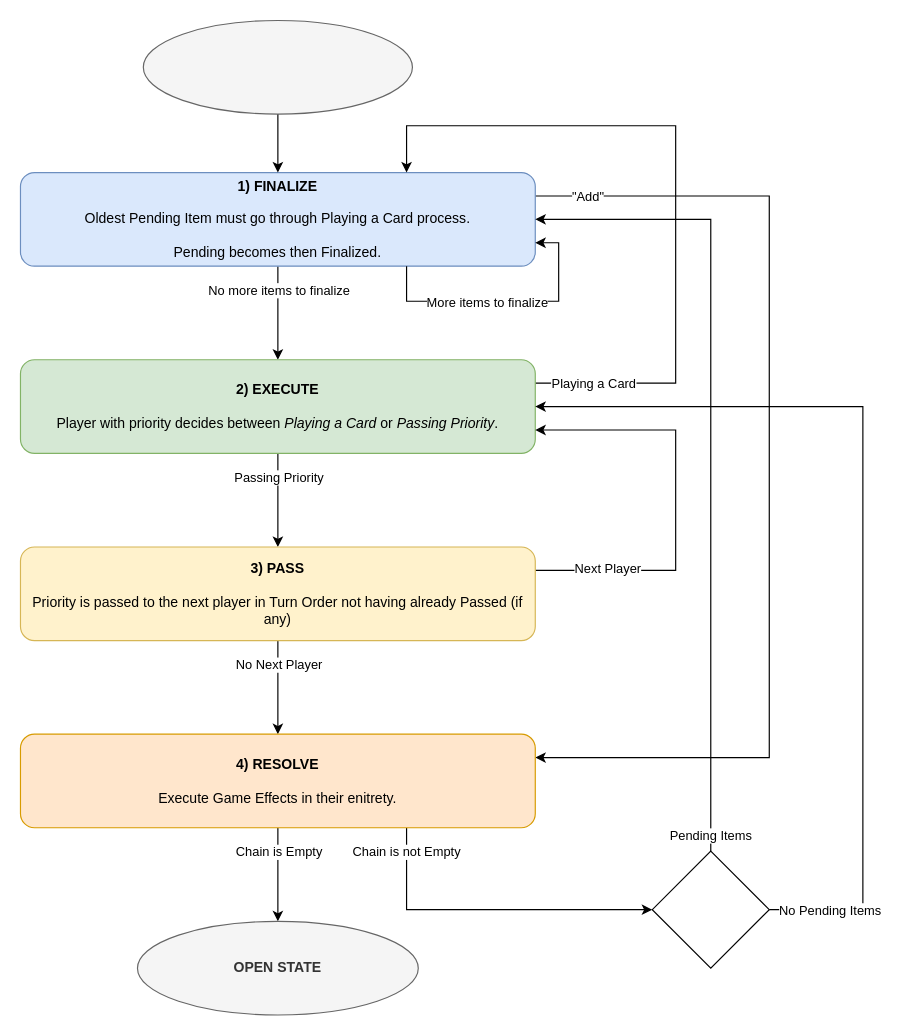
This 901x1035 diagram has some shape labels left out. The centre of each missing label's shape, as x and y in pixels:
"A CHAIN IS CREATED WITH 1+ PENDING ITEMS ON IT" goes at (277,66).
"Check Pending Items" goes at (710,909).
